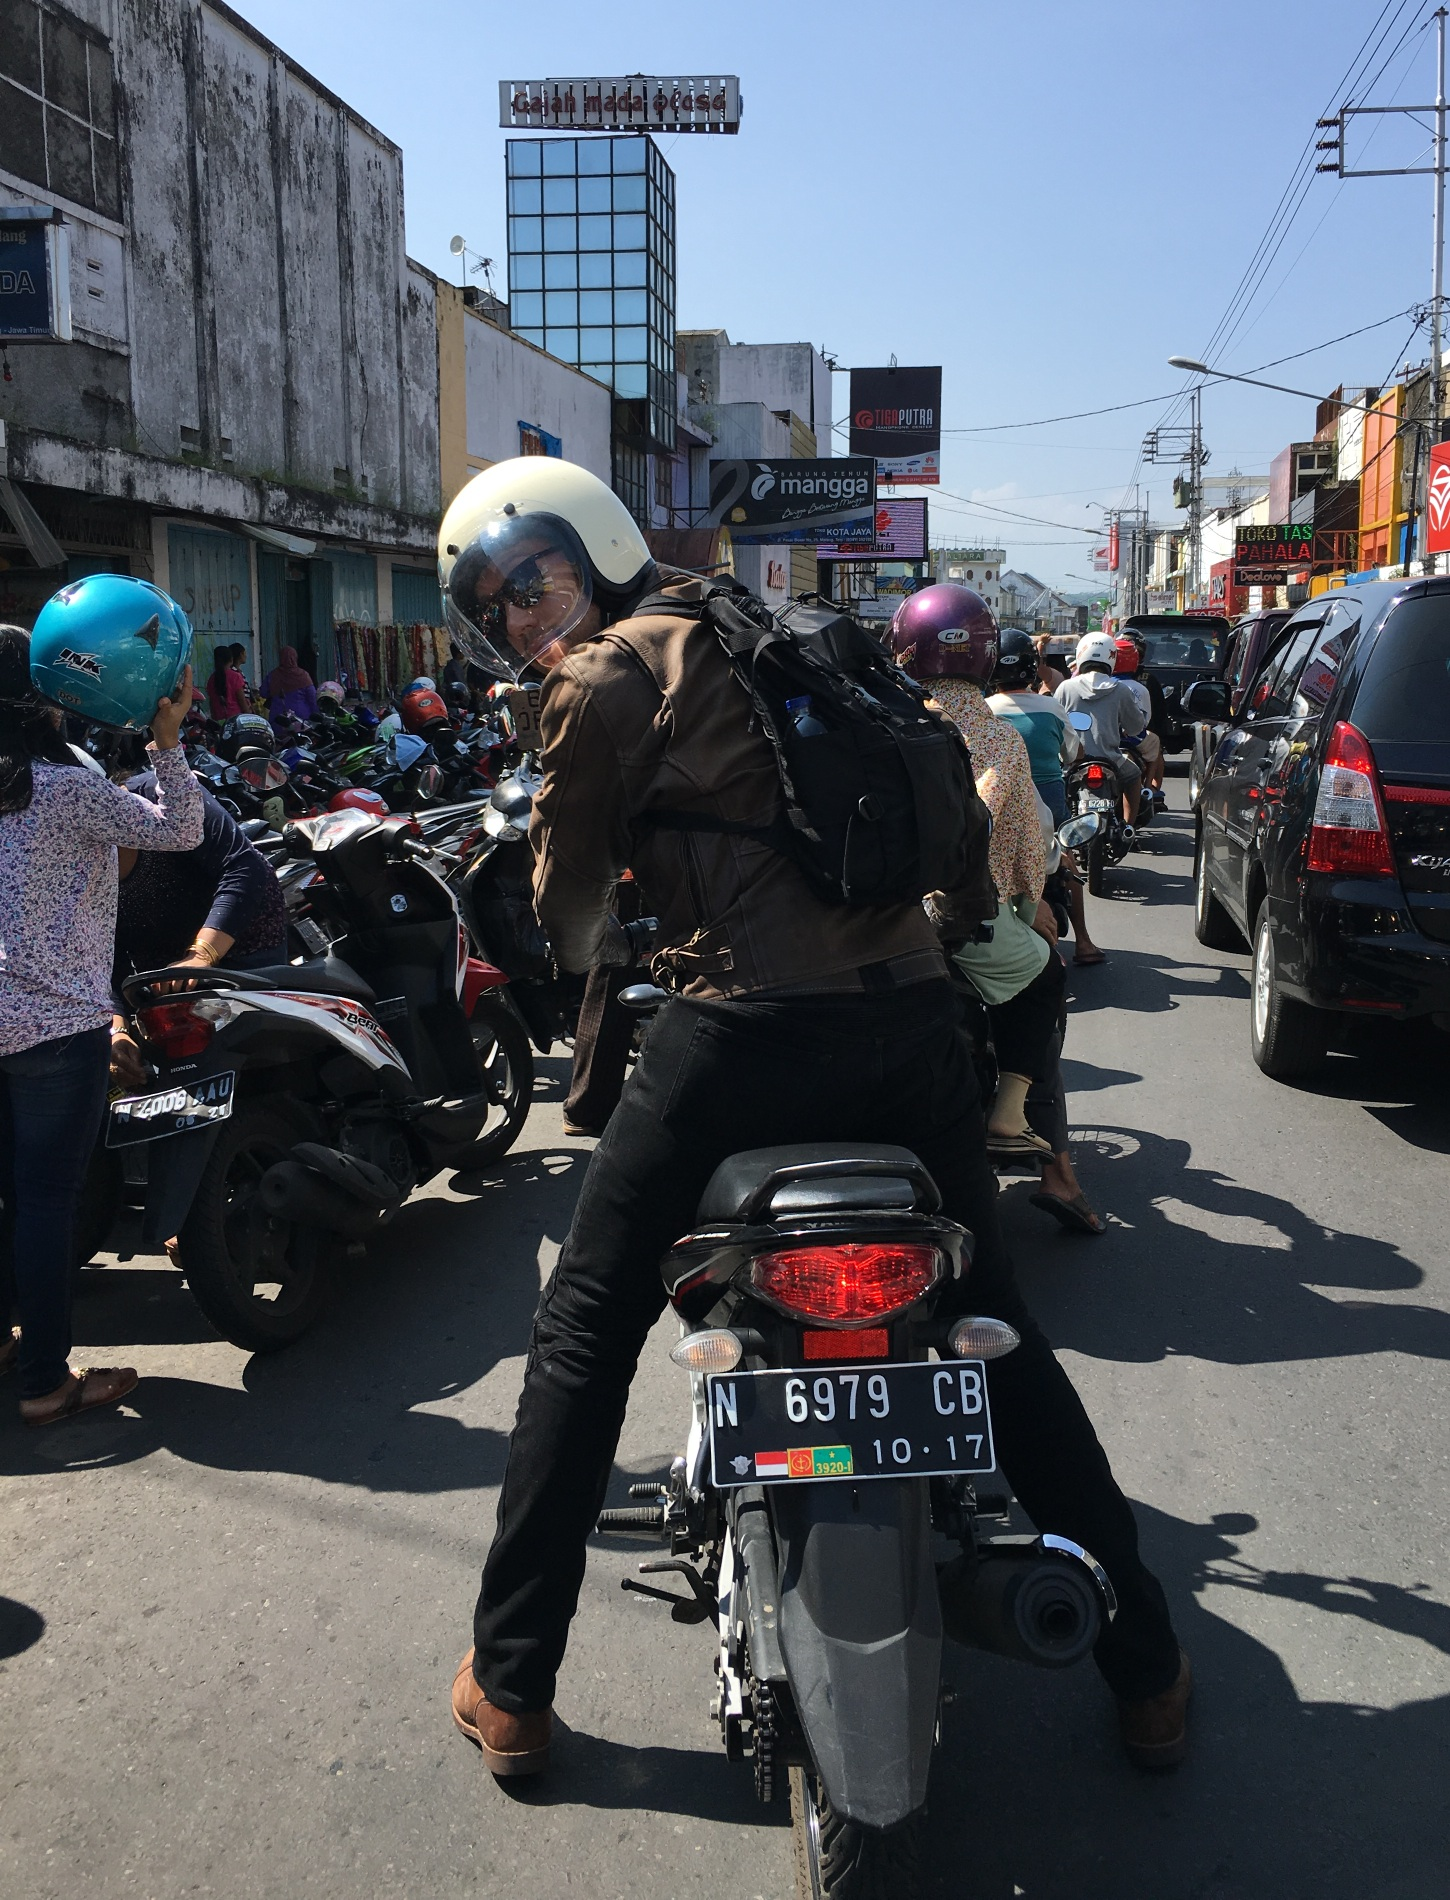plate: (708, 1356, 990, 1494)
